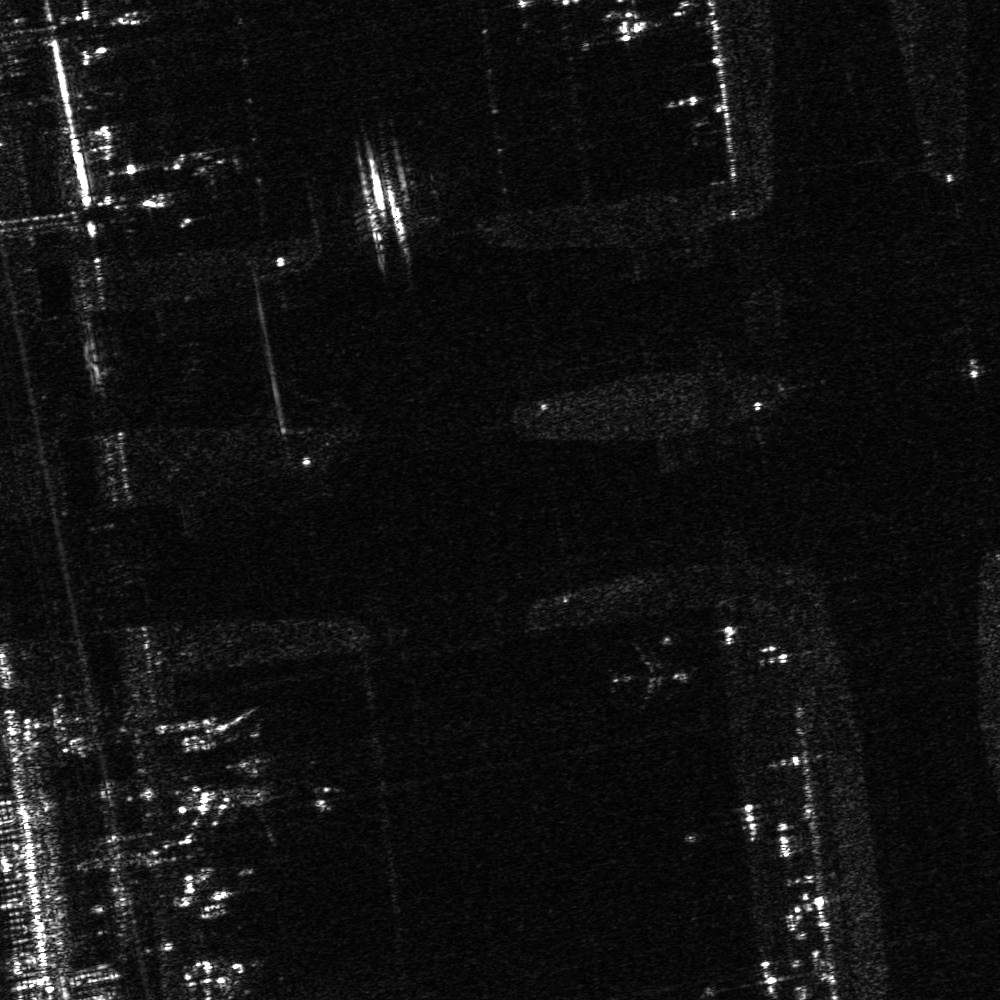Boeing737: (600, 640, 695, 713)
